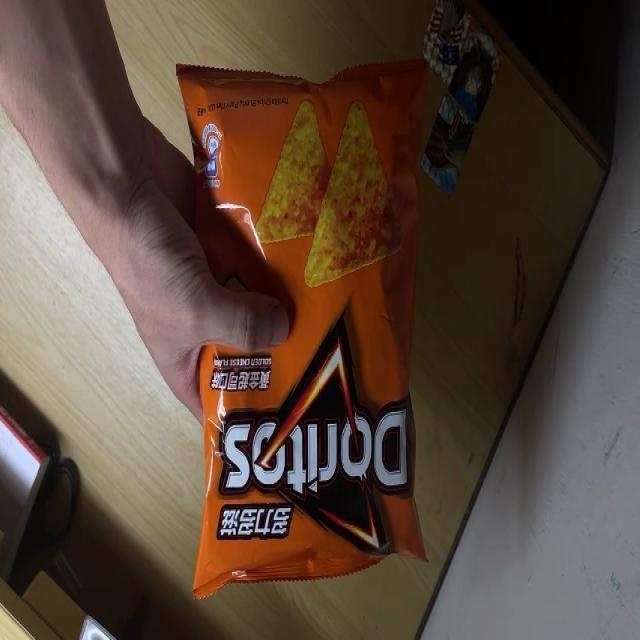Doritos: (174, 58, 431, 600)
